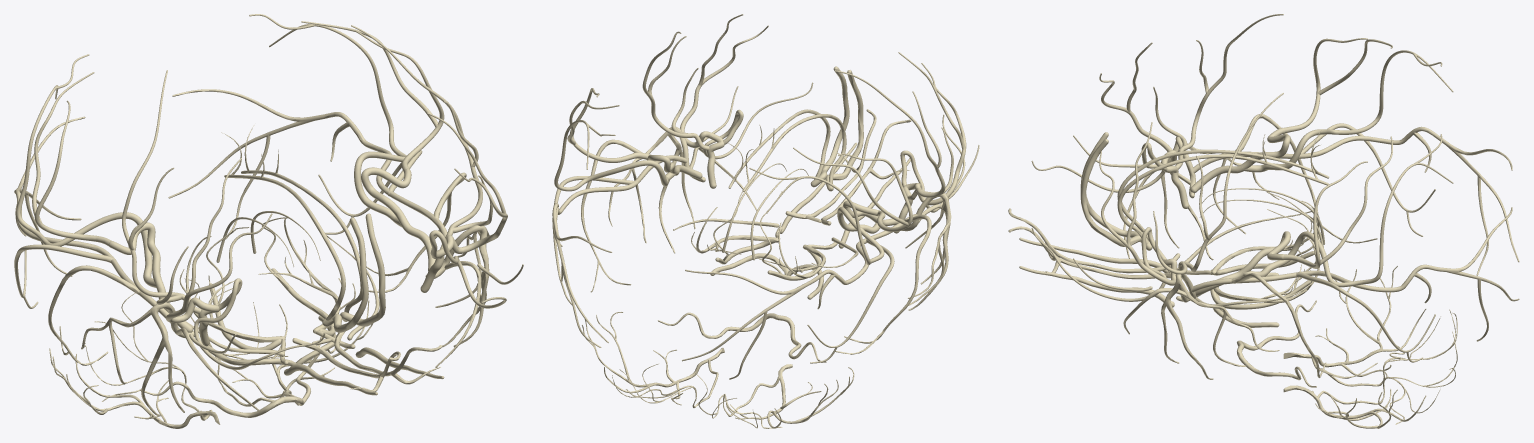
The model's file is bodyparts3d-arterial-cerebral.glb.
3 views of the same model, side by side, from view 1: azimuth 30°, elevation 25°; view 2: azimuth 150°, elevation 25°; view 3: azimuth 270°, elevation 25° (orthographic). The views are drawn at different scales.
Parts seen in each view (by area): view 1: arterial-fma50474, arterial-fma50519, arterial-fma50489, arterial-fma50490, arterial-fma50480, arterial-fma50370, arterial-fma50473, arterial-fma50445, arterial-fma50383, arterial-fma50481, arterial-fma50520, arterial-fma50478 (+27 smaller); view 2: arterial-fma50473, arterial-fma50520, arterial-fma50474, arterial-fma50519, arterial-fma50489, arterial-fma50490, arterial-fma50480, arterial-fma50478, arterial-fma50481, arterial-fma50445, arterial-fma50384, arterial-fma50383 (+22 smaller); view 3: arterial-fma50473, arterial-fma50474, arterial-fma50519, arterial-fma50520, arterial-fma50490, arterial-fma50489, arterial-fma50384, arterial-fma50481, arterial-fma50369, arterial-fma50478, arterial-fma50360, arterial-fma50480 (+23 smaller).
Boxes of the visible parts, box(x1,y1,x2,y2) form: arterial-fma50474: box(168, 89, 447, 239); arterial-fma50519: box(49, 293, 220, 428); arterial-fma50489: box(16, 54, 162, 287); arterial-fma50490: box(249, 14, 406, 227); arterial-fma50480: box(122, 70, 201, 313); arterial-fma50370: box(361, 167, 444, 292); arterial-fma50473: box(14, 116, 170, 323); arterial-fma50445: box(166, 158, 272, 322); arterial-fma50383: box(81, 305, 184, 416); arterial-fma50481: box(351, 25, 493, 248); arterial-fma50520: box(184, 278, 373, 406); arterial-fma50478: box(427, 112, 507, 258); arterial-fma50473: box(682, 214, 918, 379); arterial-fma50520: box(582, 311, 724, 407); arterial-fma50474: box(552, 155, 687, 347); arterial-fma50519: box(695, 364, 854, 428); arterial-fma50489: box(749, 168, 884, 265); arterial-fma50490: box(554, 120, 677, 191); arterial-fma50480: box(835, 70, 953, 200); arterial-fma50478: box(680, 14, 768, 152); arterial-fma50481: box(642, 31, 709, 150); arterial-fma50445: box(898, 52, 966, 205); arterial-fma50384: box(608, 127, 695, 253); arterial-fma50383: box(908, 194, 951, 310); arterial-fma50473: box(1189, 126, 1519, 275); arterial-fma50474: box(1192, 207, 1519, 341); arterial-fma50519: box(1283, 266, 1457, 386); arterial-fma50520: box(1283, 331, 1457, 428); arterial-fma50490: box(1241, 134, 1453, 287); arterial-fma50489: box(1241, 50, 1453, 172); arterial-fma50384: box(1161, 275, 1279, 379); arterial-fma50481: box(1153, 93, 1283, 274); arterial-fma50369: box(1171, 127, 1290, 208); arterial-fma50478: box(1099, 122, 1177, 285); arterial-fma50360: box(1117, 141, 1328, 244); arterial-fma50480: box(1153, 14, 1283, 169).
Size of the model in its own units: 0.1447 by 0.1333 by 0.179.
